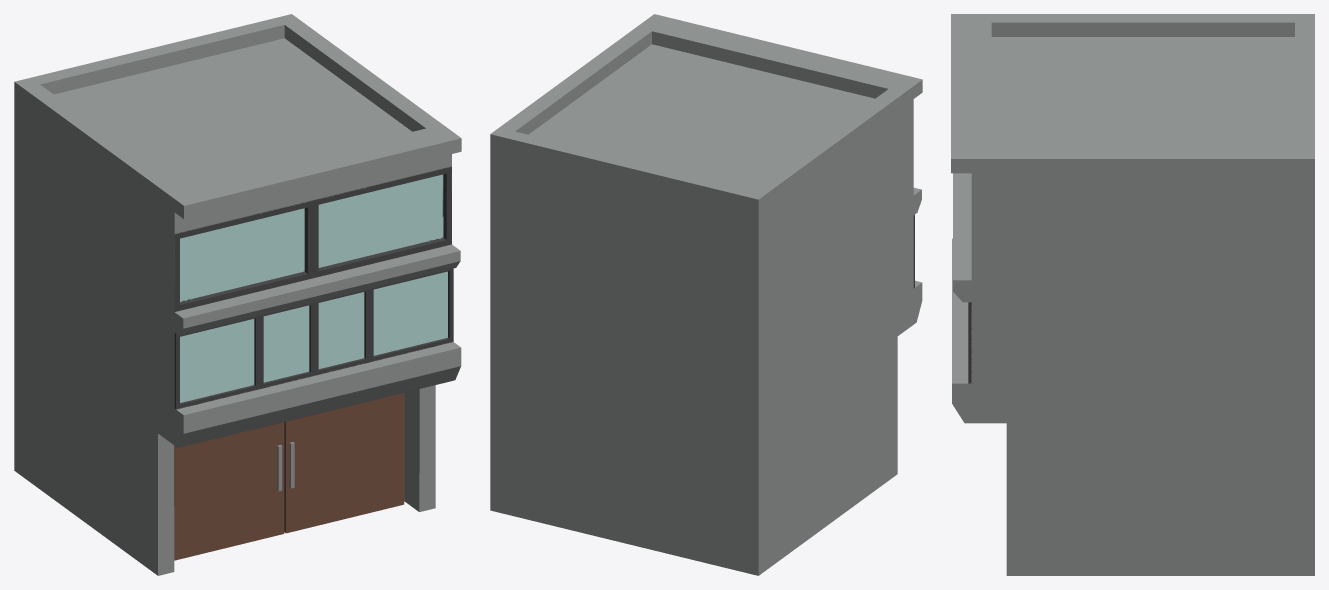
The model's file is BangunanGenericVar4.fbx.
3 views of the same model, side by side, from view 1: azimuth 30°, elevation 25°; view 2: azimuth 150°, elevation 25°; view 3: azimuth 270°, elevation 25° (orthographic). The views are drawn at different scales.
Visible parts, largest first — view 1: Bangunan_Var4; view 2: Bangunan_Var4; view 3: Bangunan_Var4.
Part boxes in pixels (bbox=[...]): Bangunan_Var4: bbox=[14, 14, 461, 575]; Bangunan_Var4: bbox=[490, 14, 922, 575]; Bangunan_Var4: bbox=[951, 14, 1314, 575].
Size of the model in its own units: 300 by 402 by 318.
1 material, 1 textured.
